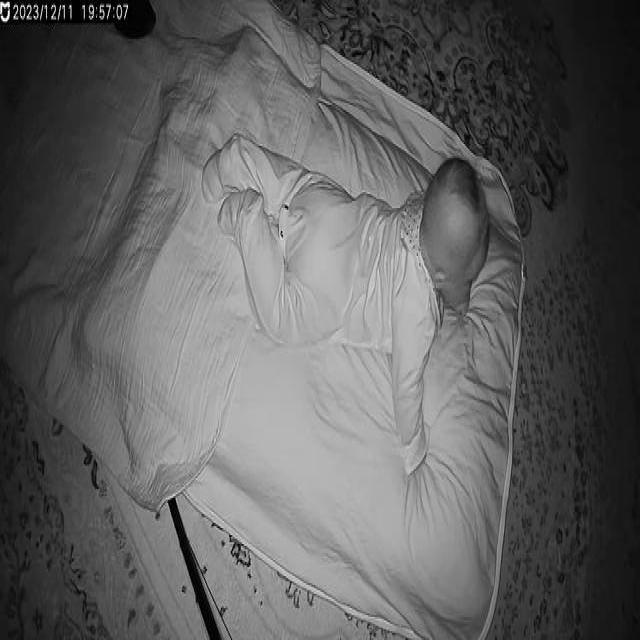baby: (199, 132, 492, 480)
